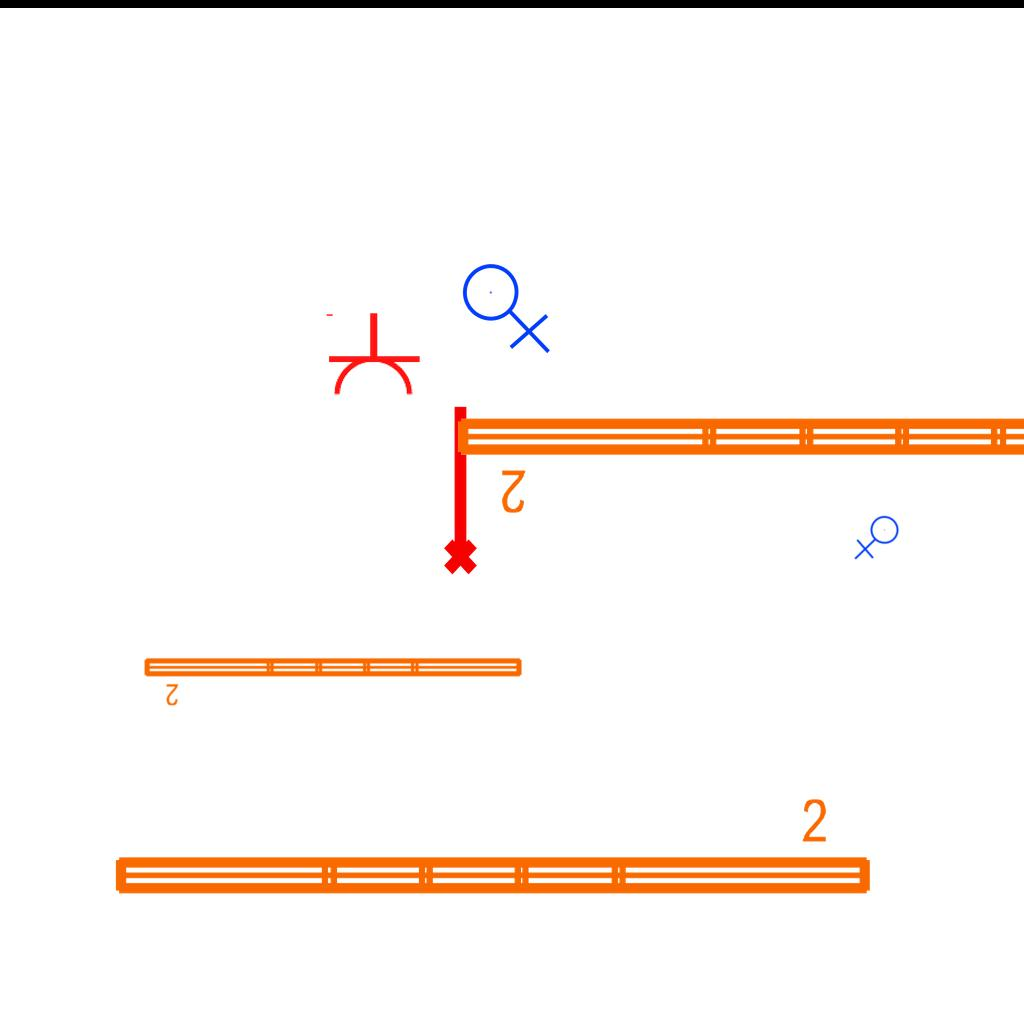ASR_Ansaugoeffnung: (435, 401, 481, 577)
Ambulanz_Pendelleuchte_LED: (105, 794, 879, 906), (449, 406, 1024, 518), (140, 652, 527, 708)
Elektroanschluss_allgemein_230V_Geraeteanschlussdose_230V: (461, 255, 555, 354), (854, 515, 903, 562)
Schukosteckdose_einfach: (322, 311, 422, 398)
